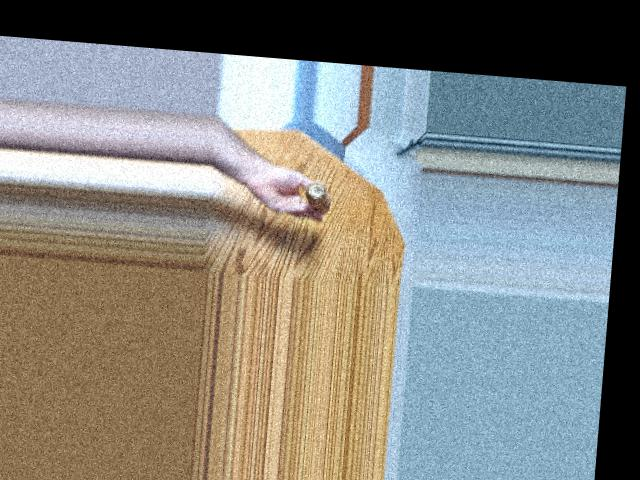sweet_potato: (295, 175, 336, 216)
